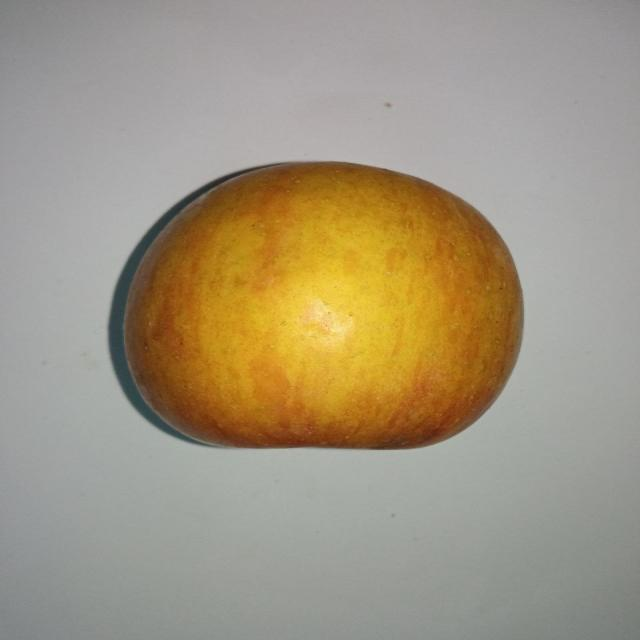fresh_apple: (122, 161, 522, 451)
